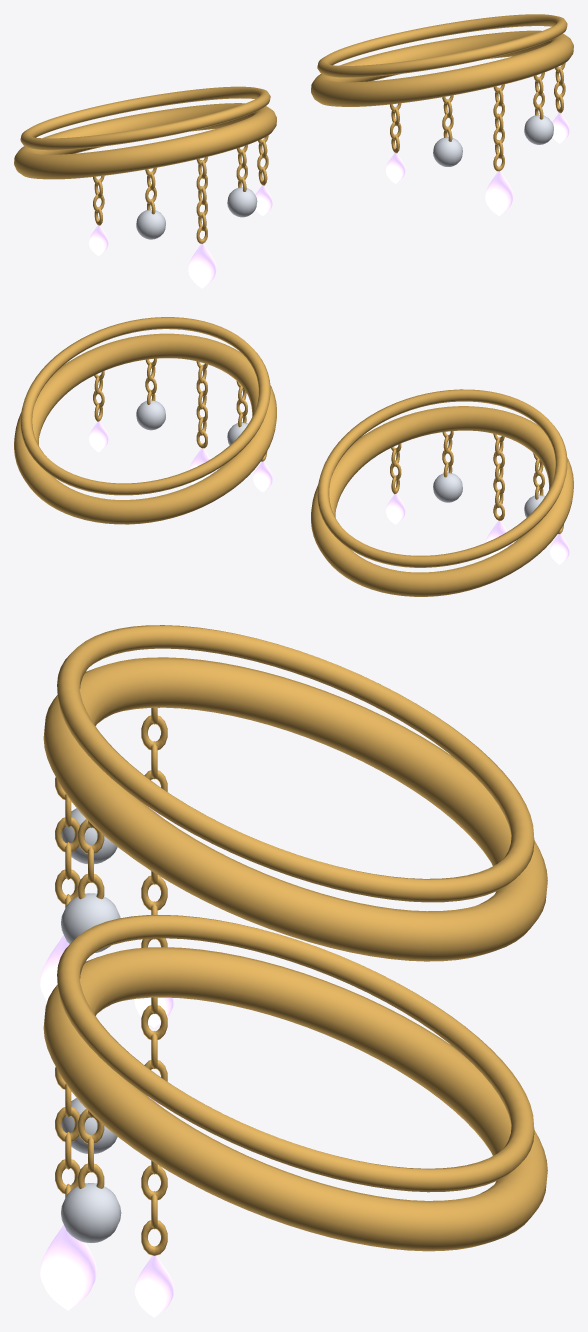
File: anklets.glb
The picture shows the model from 3 angles, top to bottom: view 1: azimuth 30°, elevation 25°; view 2: azimuth 150°, elevation 25°; view 3: azimuth 270°, elevation 25°; orthographic projection. The views are drawn at different scales.
Parts seen in each view (by area): view 1: bands, charms, bells; view 2: bands, charms, bells; view 3: bands, bells, charms.
Boxes of the visible parts, left/top/right/bottom form: bands: left=14, top=14, right=573, bottom=243; charms: left=89, top=113, right=569, bottom=288; bells: left=136, top=115, right=553, bottom=239; bands: left=14, top=317, right=573, bottom=596; charms: left=89, top=421, right=569, bottom=564; bells: left=136, top=400, right=545, bottom=517; bands: left=43, top=625, right=547, bottom=1255; bells: left=61, top=808, right=121, bottom=1242; charms: left=40, top=808, right=174, bottom=1317.
Size of the model in its own units: 1.21 by 0.3753 by 0.5036.
